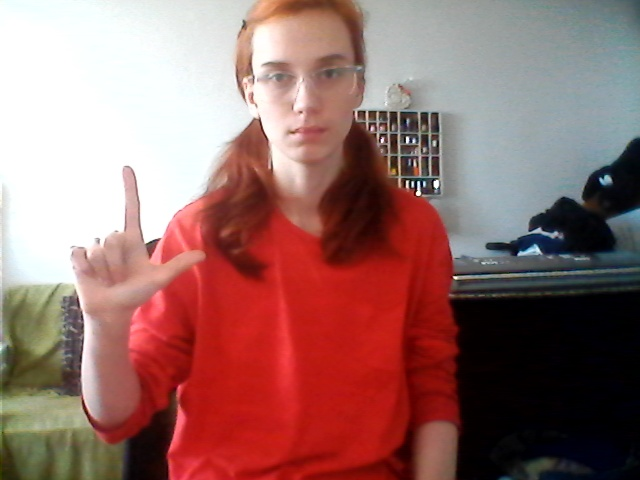l: (41, 157, 211, 311)
